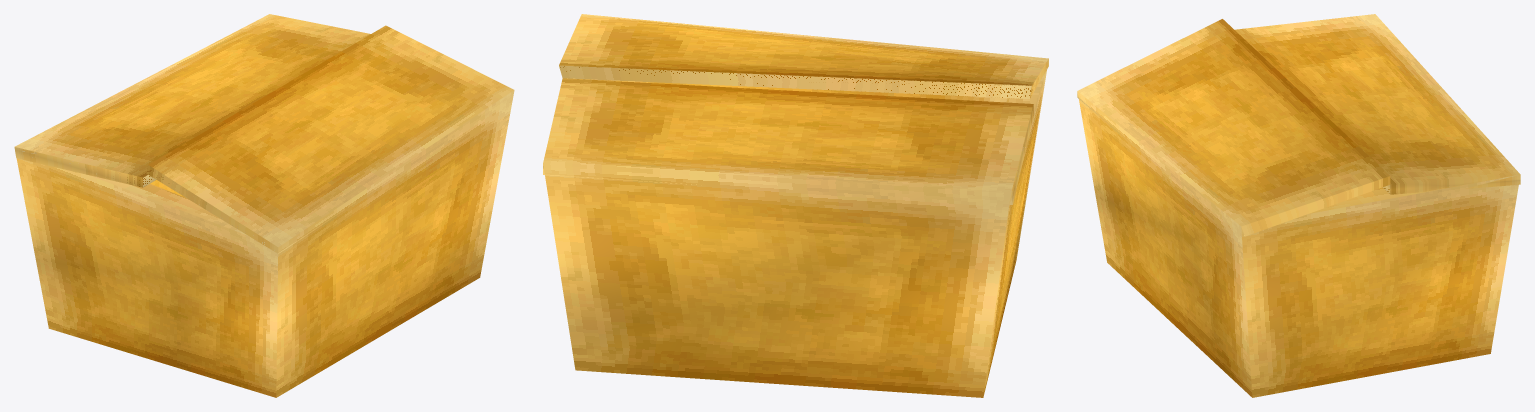
File: ohako1-2.glb
3 views of the same model, side by side, from view 1: azimuth 30°, elevation 25°; view 2: azimuth 150°, elevation 25°; view 3: azimuth 270°, elevation 25° (orthographic). The views are drawn at different scales.
Visible parts, largest first — view 1: ohako1; view 2: ohako1; view 3: ohako1.
Boxes of the visible parts, x1=… form: ohako1: x1=14, y1=14, x2=514, y2=397; ohako1: x1=543, y1=14, x2=1048, y2=397; ohako1: x1=1077, y1=14, x2=1520, y2=397.
Size of the model in its own units: 135 by 62 by 119.
Materials: 1 (1 with a texture image).
